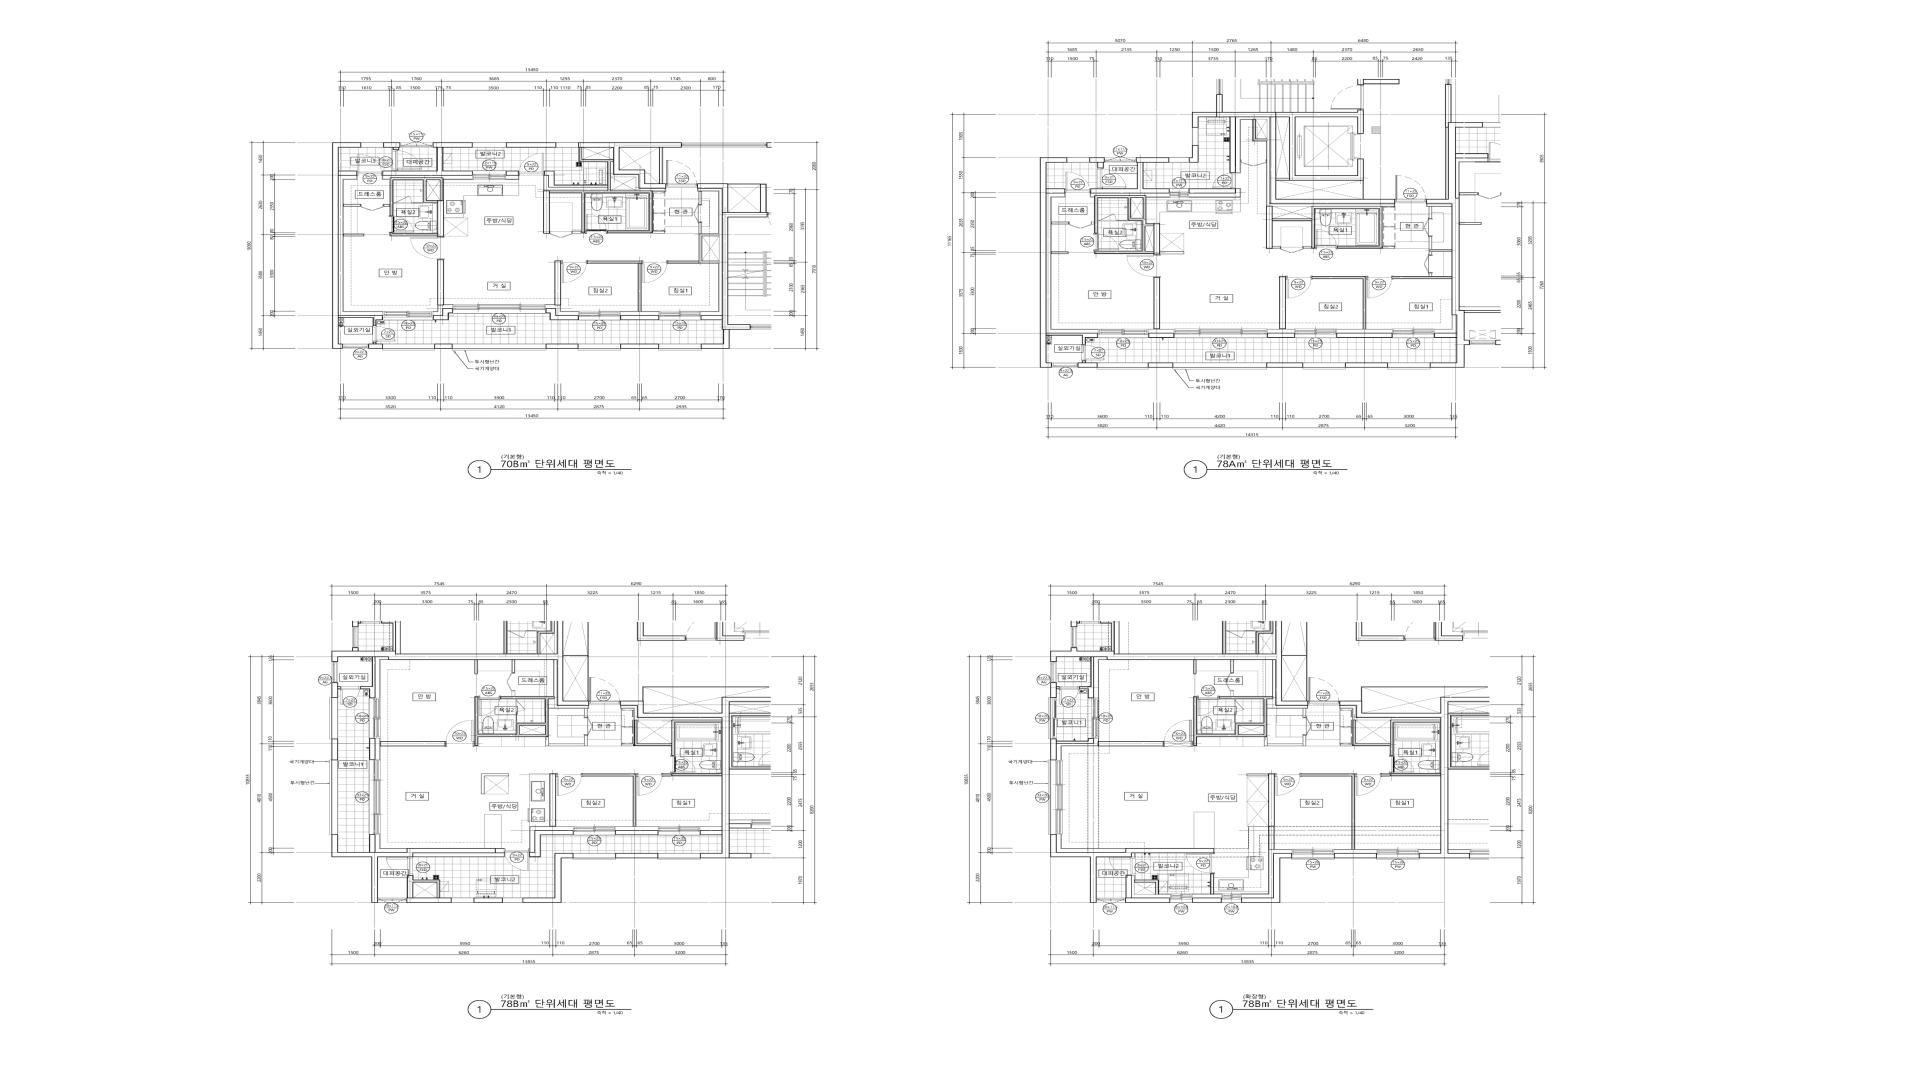door: (666, 160, 698, 187), (1395, 175, 1427, 202), (1331, 84, 1364, 109), (410, 236, 444, 260), (1163, 720, 1193, 746), (1308, 678, 1340, 703), (446, 720, 475, 746), (589, 678, 620, 703), (1127, 255, 1160, 277), (393, 150, 422, 171), (1185, 853, 1215, 874), (518, 153, 545, 175), (1286, 276, 1312, 298), (1064, 171, 1091, 194), (1097, 169, 1126, 189), (504, 848, 529, 870), (642, 261, 667, 284), (636, 774, 662, 795), (1275, 774, 1302, 795), (1356, 774, 1382, 795), (560, 261, 587, 282), (1366, 277, 1393, 298), (357, 154, 382, 175), (556, 774, 582, 795), (386, 857, 413, 876), (1109, 857, 1135, 876), (477, 696, 500, 716), (1197, 696, 1220, 716), (585, 214, 608, 233), (1315, 229, 1337, 249), (671, 756, 695, 774), (1390, 756, 1414, 774), (1095, 233, 1118, 252), (390, 216, 414, 233), (1083, 344, 1105, 360), (373, 326, 396, 342), (1213, 173, 1236, 189), (1059, 687, 1079, 704), (1241, 160, 1267, 166), (1225, 673, 1234, 691), (360, 204, 384, 211), (550, 231, 572, 237), (1280, 247, 1303, 253), (1069, 222, 1092, 228), (584, 717, 592, 736), (506, 673, 514, 691), (1303, 717, 1311, 736), (694, 204, 702, 223), (1424, 255, 1432, 273), (1098, 214, 1117, 222), (1424, 219, 1432, 236), (516, 699, 525, 712), (1234, 699, 1244, 712), (393, 196, 411, 203)
wall: (331, 621, 589, 705), (1051, 621, 1308, 705), (1393, 84, 1465, 368), (1192, 109, 1395, 204), (620, 698, 729, 858), (1340, 698, 1448, 858), (1236, 117, 1395, 206), (543, 142, 682, 233), (1039, 157, 1098, 368), (331, 835, 504, 903), (698, 183, 767, 349), (1051, 835, 1215, 903), (332, 142, 382, 349), (1047, 194, 1098, 334), (339, 175, 382, 315), (1266, 206, 1382, 249), (1302, 774, 1356, 849), (1193, 696, 1274, 746), (475, 696, 554, 746), (1095, 195, 1160, 255), (390, 178, 444, 236), (698, 189, 721, 315), (382, 142, 472, 175), (1091, 157, 1170, 194), (1312, 277, 1366, 330), (582, 774, 636, 827), (587, 261, 642, 311), (1241, 853, 1292, 903), (522, 853, 572, 903), (1241, 849, 1292, 898), (549, 659, 589, 717), (1267, 659, 1308, 717), (611, 162, 666, 191), (620, 705, 721, 720), (1340, 705, 1441, 720), (1125, 876, 1170, 903), (406, 876, 451, 903), (1056, 835, 1126, 852), (529, 831, 574, 857), (529, 827, 574, 852), (1282, 655, 1307, 700), (543, 175, 608, 191), (1051, 738, 1095, 761), (1056, 738, 1098, 761), (1131, 876, 1170, 898), (481, 774, 509, 794), (376, 835, 406, 852), (376, 657, 388, 699), (1269, 774, 1275, 849), (1095, 657, 1106, 698), (1189, 189, 1241, 198), (1265, 736, 1307, 746), (546, 736, 587, 746), (702, 236, 719, 261), (1429, 236, 1452, 255), (546, 309, 579, 320), (1435, 315, 1457, 332), (413, 882, 436, 898), (1427, 204, 1452, 219), (1134, 880, 1159, 894), (413, 853, 504, 857), (1279, 276, 1286, 330), (382, 175, 472, 179), (546, 305, 579, 315), (1097, 741, 1163, 746), (550, 774, 556, 827), (380, 741, 446, 746), (1154, 277, 1160, 330), (1253, 119, 1267, 141), (1091, 194, 1170, 198), (438, 260, 444, 306), (554, 261, 560, 306), (426, 181, 440, 200), (506, 142, 556, 148), (1189, 189, 1236, 194), (433, 309, 452, 320), (1336, 330, 1393, 334), (1335, 853, 1377, 858), (616, 853, 658, 858), (1345, 363, 1387, 368), (1337, 334, 1393, 338), (1358, 79, 1399, 84), (620, 315, 659, 320), (433, 305, 452, 315), (621, 344, 658, 349), (1089, 157, 1105, 169), (1267, 363, 1303, 368), (615, 827, 658, 831), (615, 831, 658, 835), (546, 344, 578, 349), (1335, 849, 1377, 853), (1189, 145, 1199, 162), (620, 311, 659, 315), (1077, 360, 1097, 368), (1192, 898, 1221, 903), (473, 898, 502, 903), (1267, 332, 1295, 338), (1149, 332, 1175, 338), (369, 738, 376, 760), (331, 738, 338, 760), (384, 142, 401, 150), (1050, 683, 1059, 698), (331, 683, 340, 698), (1149, 363, 1172, 368), (368, 342, 382, 349), (1192, 894, 1221, 898), (1267, 330, 1295, 334), (1149, 330, 1175, 334), (434, 344, 452, 349), (1447, 128, 1448, 199), (659, 148, 662, 183), (1419, 849, 1441, 853), (667, 261, 699, 264), (700, 827, 721, 831), (376, 738, 380, 760), (1160, 252, 1184, 255), (1247, 774, 1269, 777), (505, 171, 518, 175), (505, 175, 518, 179), (1211, 874, 1213, 894), (1230, 659, 1234, 673), (728, 183, 761, 185), (475, 659, 477, 674), (1193, 659, 1196, 674), (1276, 178, 1290, 181), (1382, 247, 1395, 249), (621, 744, 634, 746), (512, 659, 514, 673), (1340, 744, 1353, 746), (653, 231, 665, 233), (1303, 247, 1312, 249), (572, 231, 582, 233), (1273, 247, 1280, 249), (1230, 691, 1234, 696), (384, 204, 390, 207), (1131, 853, 1135, 857), (1117, 220, 1127, 222), (512, 691, 514, 696), (516, 712, 517, 723), (1234, 712, 1236, 723), (1429, 273, 1432, 277), (1092, 222, 1095, 224), (411, 203, 422, 203)
window: (1048, 761, 1063, 835), (452, 305, 546, 314), (369, 760, 380, 835), (1175, 330, 1267, 338), (1172, 363, 1267, 369), (452, 344, 546, 351), (330, 760, 338, 835), (382, 311, 433, 320), (1377, 849, 1419, 860), (1292, 849, 1335, 860), (369, 698, 380, 738), (1098, 330, 1149, 338), (579, 311, 620, 320), (659, 311, 700, 320), (382, 344, 435, 351), (1097, 363, 1149, 369), (1295, 330, 1337, 338), (1393, 330, 1435, 338), (658, 827, 700, 835), (330, 698, 338, 738), (574, 827, 615, 835), (1048, 698, 1056, 738), (1387, 363, 1431, 369), (658, 344, 702, 351), (578, 344, 621, 351), (572, 853, 616, 860), (658, 853, 700, 860), (1303, 363, 1345, 369), (472, 171, 506, 179), (1092, 698, 1098, 738), (400, 141, 433, 148), (1170, 894, 1192, 903), (378, 898, 407, 905), (1097, 898, 1125, 905), (1221, 894, 1241, 903), (1170, 189, 1189, 198), (472, 142, 506, 148), (1105, 157, 1135, 162), (1051, 363, 1077, 368), (331, 662, 338, 683), (343, 344, 368, 349), (1067, 157, 1089, 162), (556, 142, 579, 148), (451, 898, 473, 903), (361, 142, 384, 148), (1192, 128, 1199, 145), (1051, 662, 1056, 683), (1170, 157, 1189, 162), (502, 898, 522, 903)
